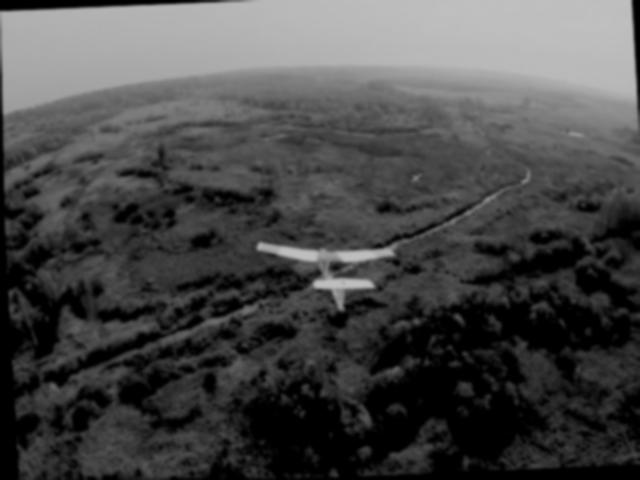hedef: (253, 228, 398, 315)
